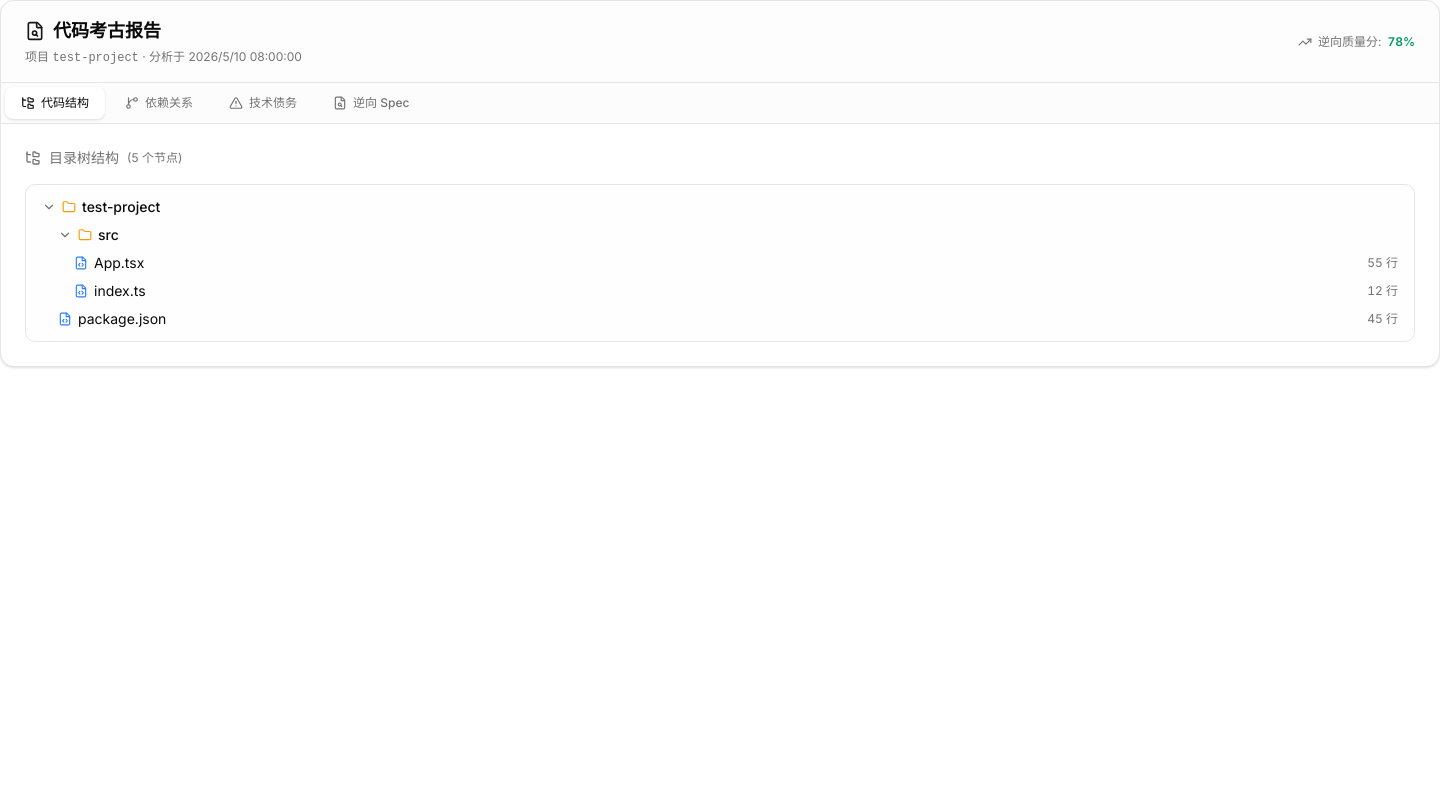
Test: ArchaeologyReport › navigates between reverse spec sub-tabs
Click the button "逆向 Spec" at (371, 103), box [317, 87, 425, 119]
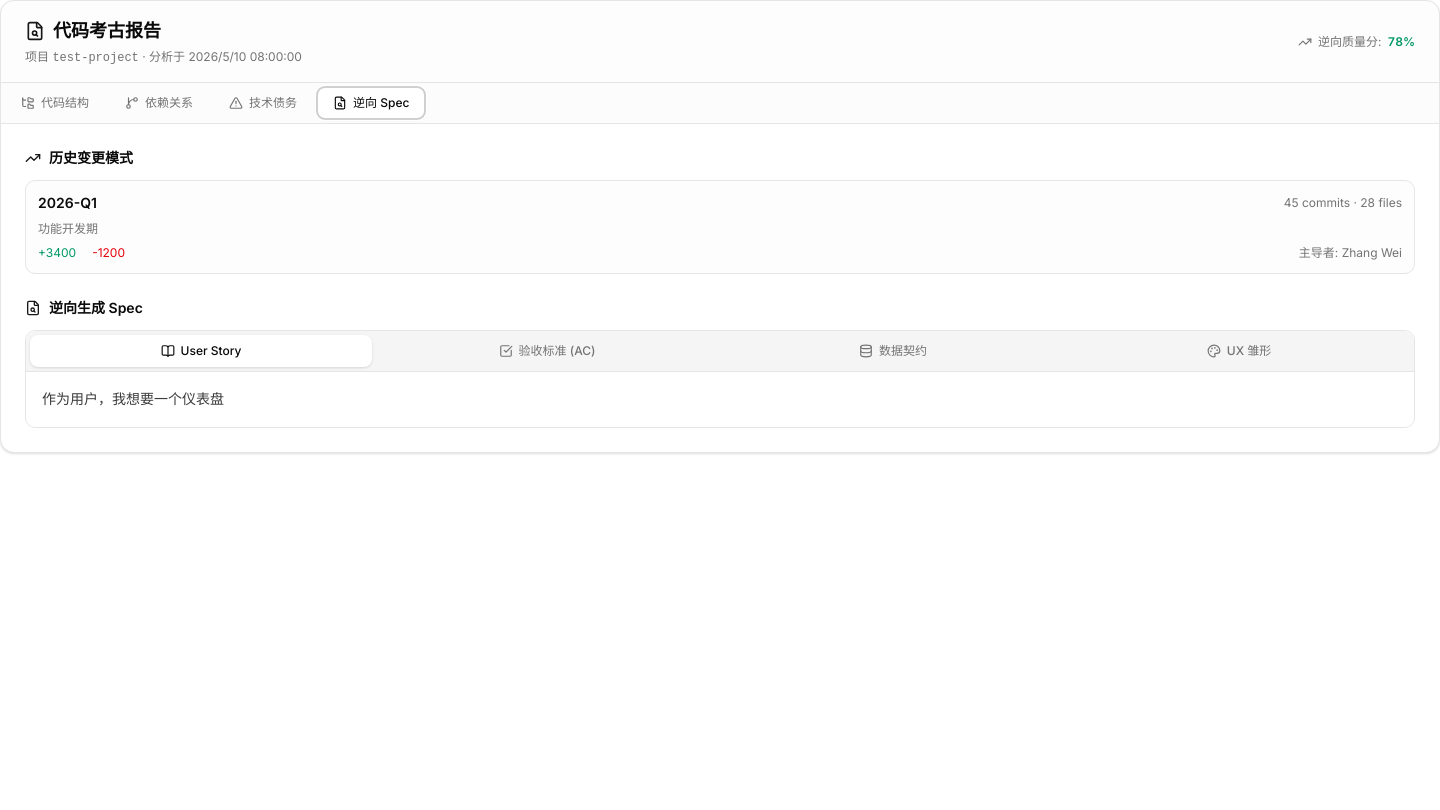
Click the button "验收标准 (AC)" at (547, 351), box [376, 335, 718, 367]
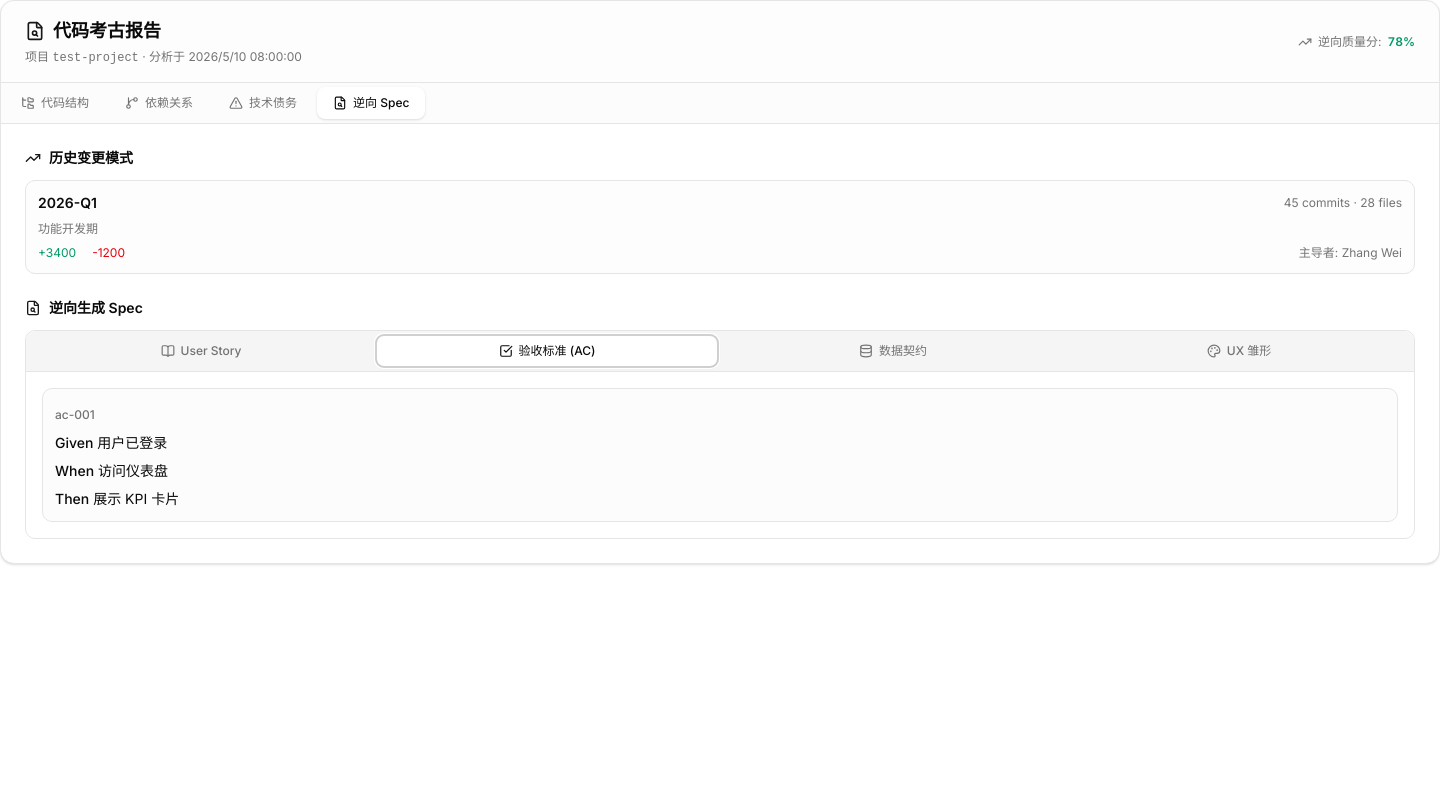
Result: the text "ac-001" is shown at [55, 407, 95, 422]
